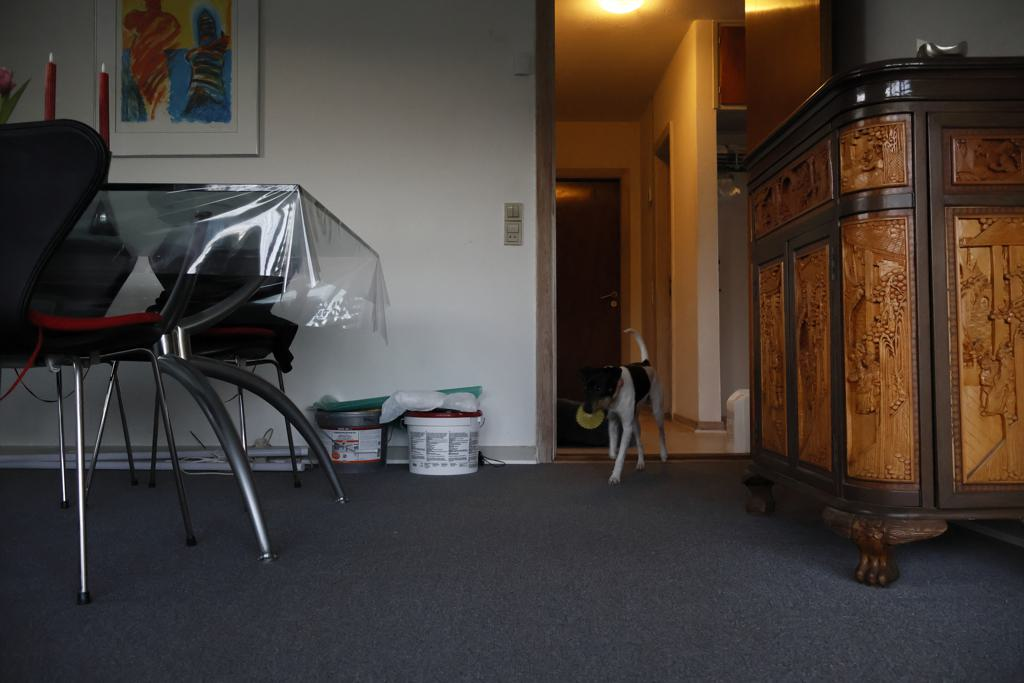Dog: (569, 319, 685, 496)
